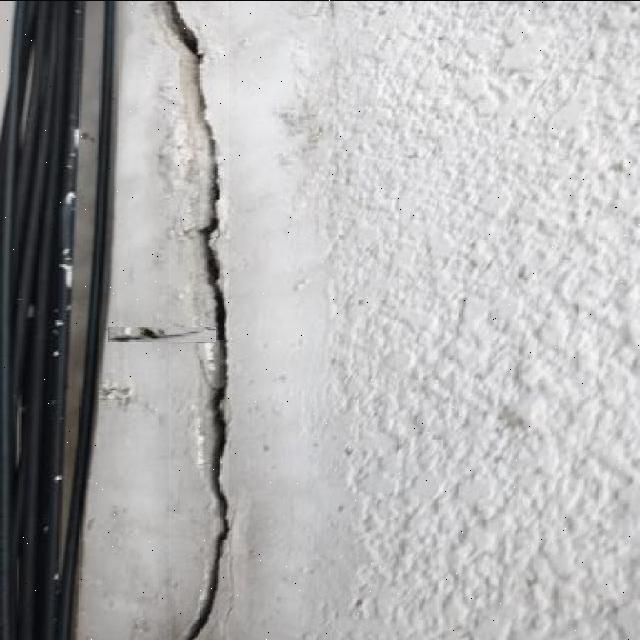crack: (125, 13, 233, 637)
dampens: (201, 235, 223, 295)
